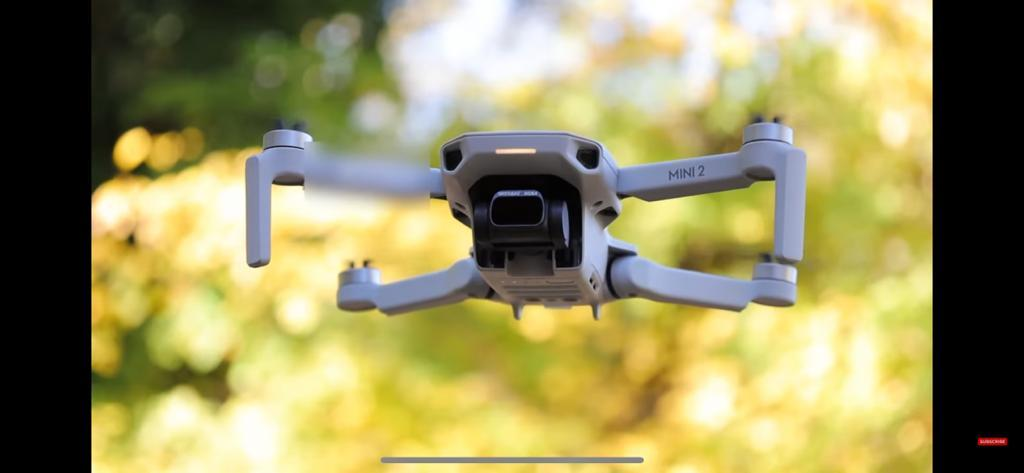drone_other: (241, 112, 807, 323)
